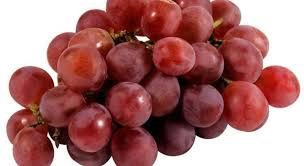Red Grapes: (27, 22, 253, 145)
